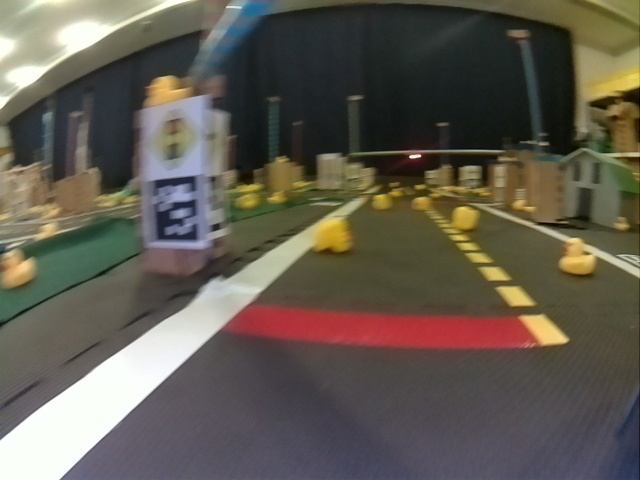Duckie: (558, 237, 596, 274), (145, 75, 191, 105), (0, 250, 36, 287), (314, 219, 349, 252), (453, 206, 479, 230), (374, 195, 391, 209), (412, 197, 428, 210), (614, 217, 627, 232)
QR code: (145, 178, 199, 246)
Signal sign: (146, 111, 196, 172)
